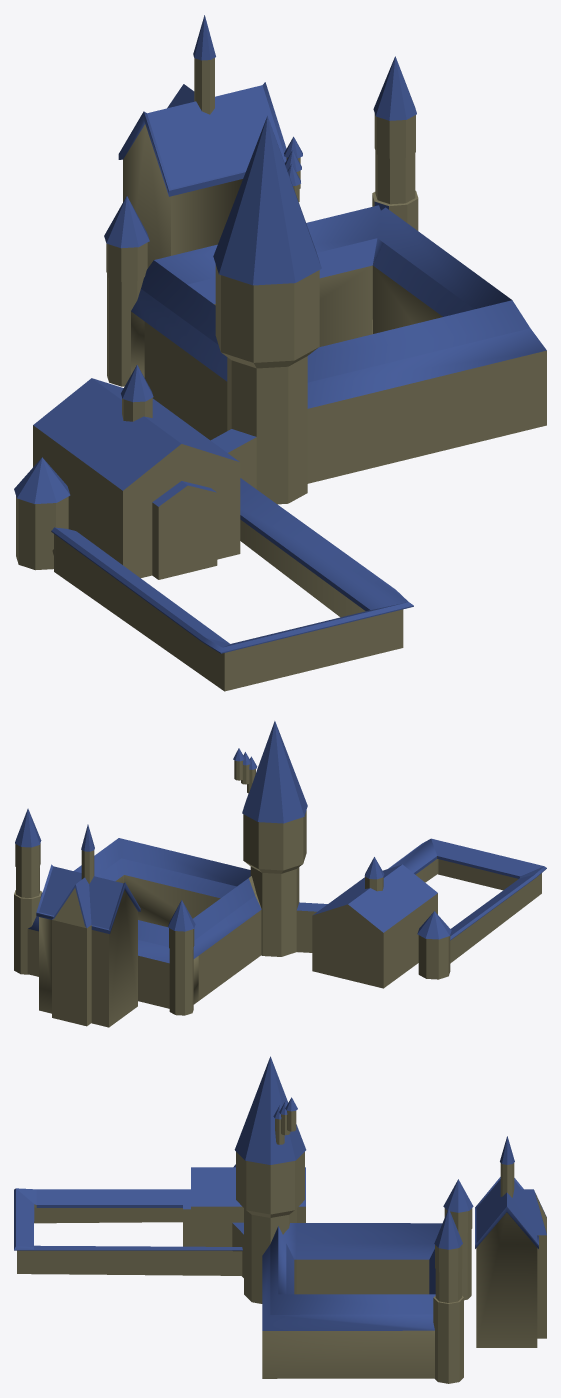
File: castle1.fbx
The picture shows the model from 3 angles, top to bottom: view 1: azimuth 30°, elevation 25°; view 2: azimuth 150°, elevation 25°; view 3: azimuth 270°, elevation 25°; orthographic projection. The views are drawn at different scales.
Parts seen in each view (by area): view 1: Cube.005; view 2: Cube.005; view 3: Cube.005.
Part boxes in pixels (left/top/right/bottom): Cube.005: left=14, top=15, right=546, bottom=691; Cube.005: left=14, top=721, right=546, bottom=1027; Cube.005: left=14, top=1056, right=546, bottom=1383.
Bounding box in the file's own units: 9774 × 6253 × 12669.
